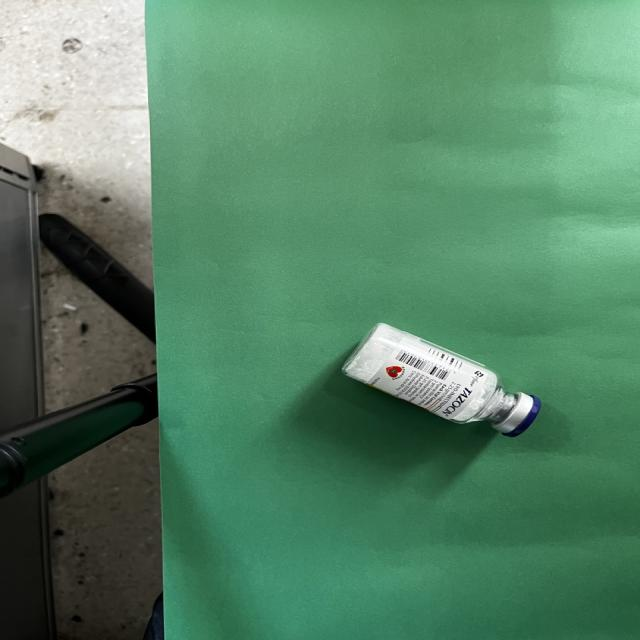Vials: (342, 323, 541, 437)
